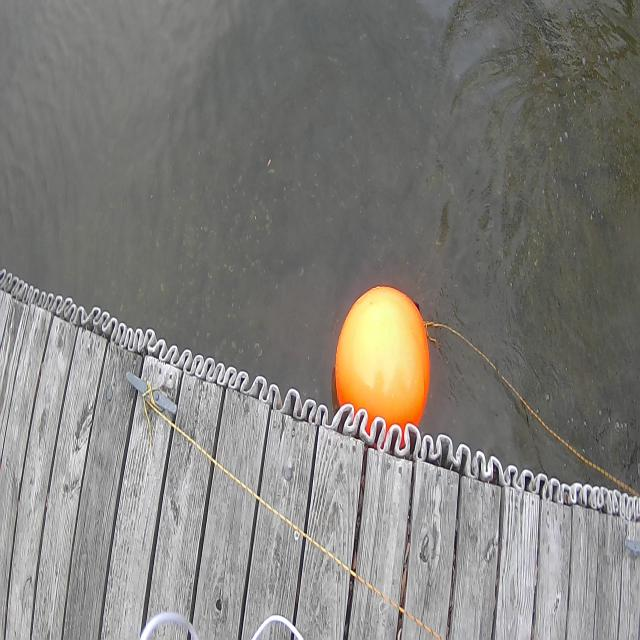Buoy: (324, 277, 440, 443)
